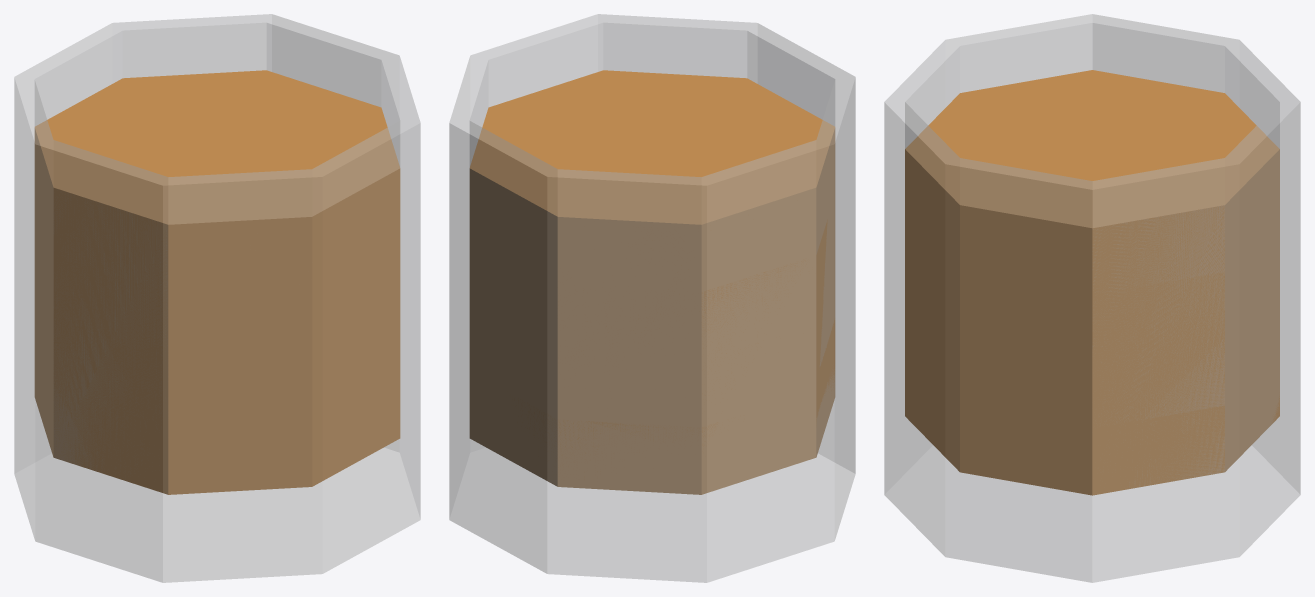
File: Whiskey Glass.fbx
3 renders of one model, left to right at view 1: azimuth 30°, elevation 25°; view 2: azimuth 150°, elevation 25°; view 3: azimuth 270°, elevation 25°, orthographic.
Parts seen in each view (by area): view 1: Whiskey Glass, Whiskey Liquid 1, Whiskey Liquid 2, Whiskey Liquid 3, Whiskey Liquid 4; view 2: Whiskey Glass, Whiskey Liquid 1, Whiskey Liquid 3, Whiskey Liquid 2, Whiskey Liquid 4; view 3: Whiskey Glass, Whiskey Liquid 1, Whiskey Liquid 2, Whiskey Liquid 3, Whiskey Liquid 4.
Boxes of the visible parts, x1,y1,x2,y2 form: Whiskey Glass: (14, 14, 420, 582); Whiskey Liquid 1: (34, 70, 400, 494); Whiskey Liquid 2: (34, 195, 400, 494); Whiskey Liquid 3: (34, 266, 397, 493); Whiskey Liquid 4: (34, 330, 344, 487); Whiskey Glass: (449, 14, 855, 582); Whiskey Liquid 1: (469, 70, 835, 420); Whiskey Liquid 3: (469, 290, 835, 453); Whiskey Liquid 2: (469, 209, 830, 359); Whiskey Liquid 4: (469, 371, 834, 494); Whiskey Glass: (884, 14, 1300, 582); Whiskey Liquid 1: (905, 70, 1279, 494); Whiskey Liquid 2: (913, 227, 1278, 491); Whiskey Liquid 3: (943, 283, 1279, 495); Whiskey Liquid 4: (960, 350, 1279, 495).
Size of the model in its own units: 48 by 50 by 48.
